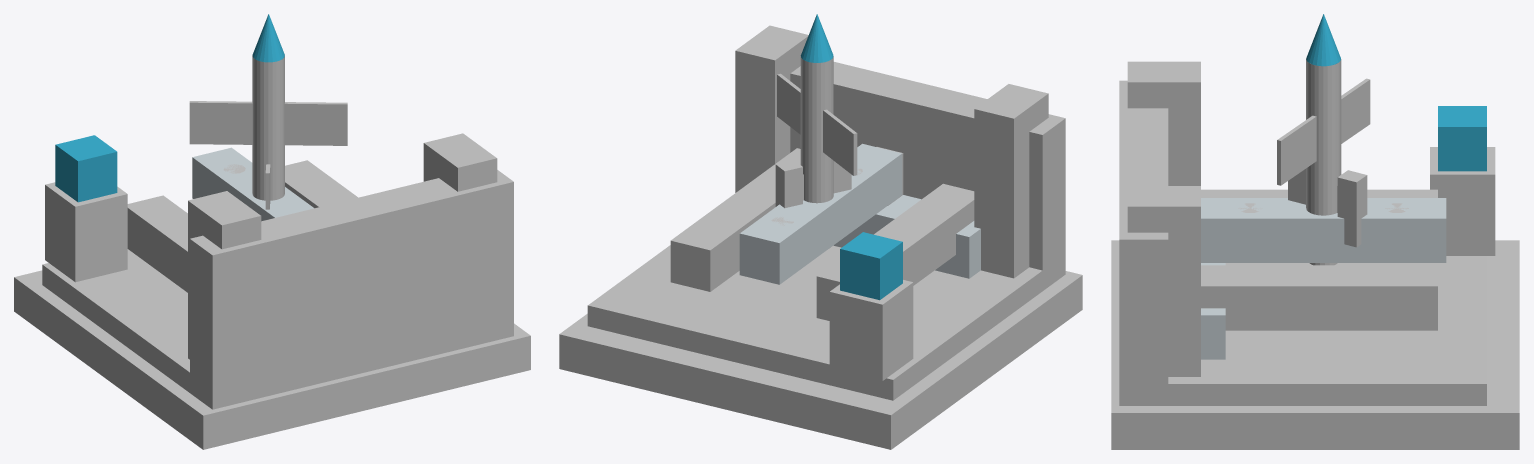
The model's file is cruise_pad.obj.
3 views of the same model, side by side, from view 1: azimuth 30°, elevation 25°; view 2: azimuth 150°, elevation 25°; view 3: azimuth 270°, elevation 25° (orthographic). The views are drawn at different scales.
Visible parts, largest first — view 1: cruise_pad; view 2: cruise_pad; view 3: cruise_pad.
Part boxes in pixels (x1=…): cruise_pad: x1=14, y1=14, x2=530, y2=449; cruise_pad: x1=559, y1=14, x2=1082, y2=449; cruise_pad: x1=1111, y1=14, x2=1519, y2=449.
Size of the model in its own units: 1 by 0.9445 by 1.
